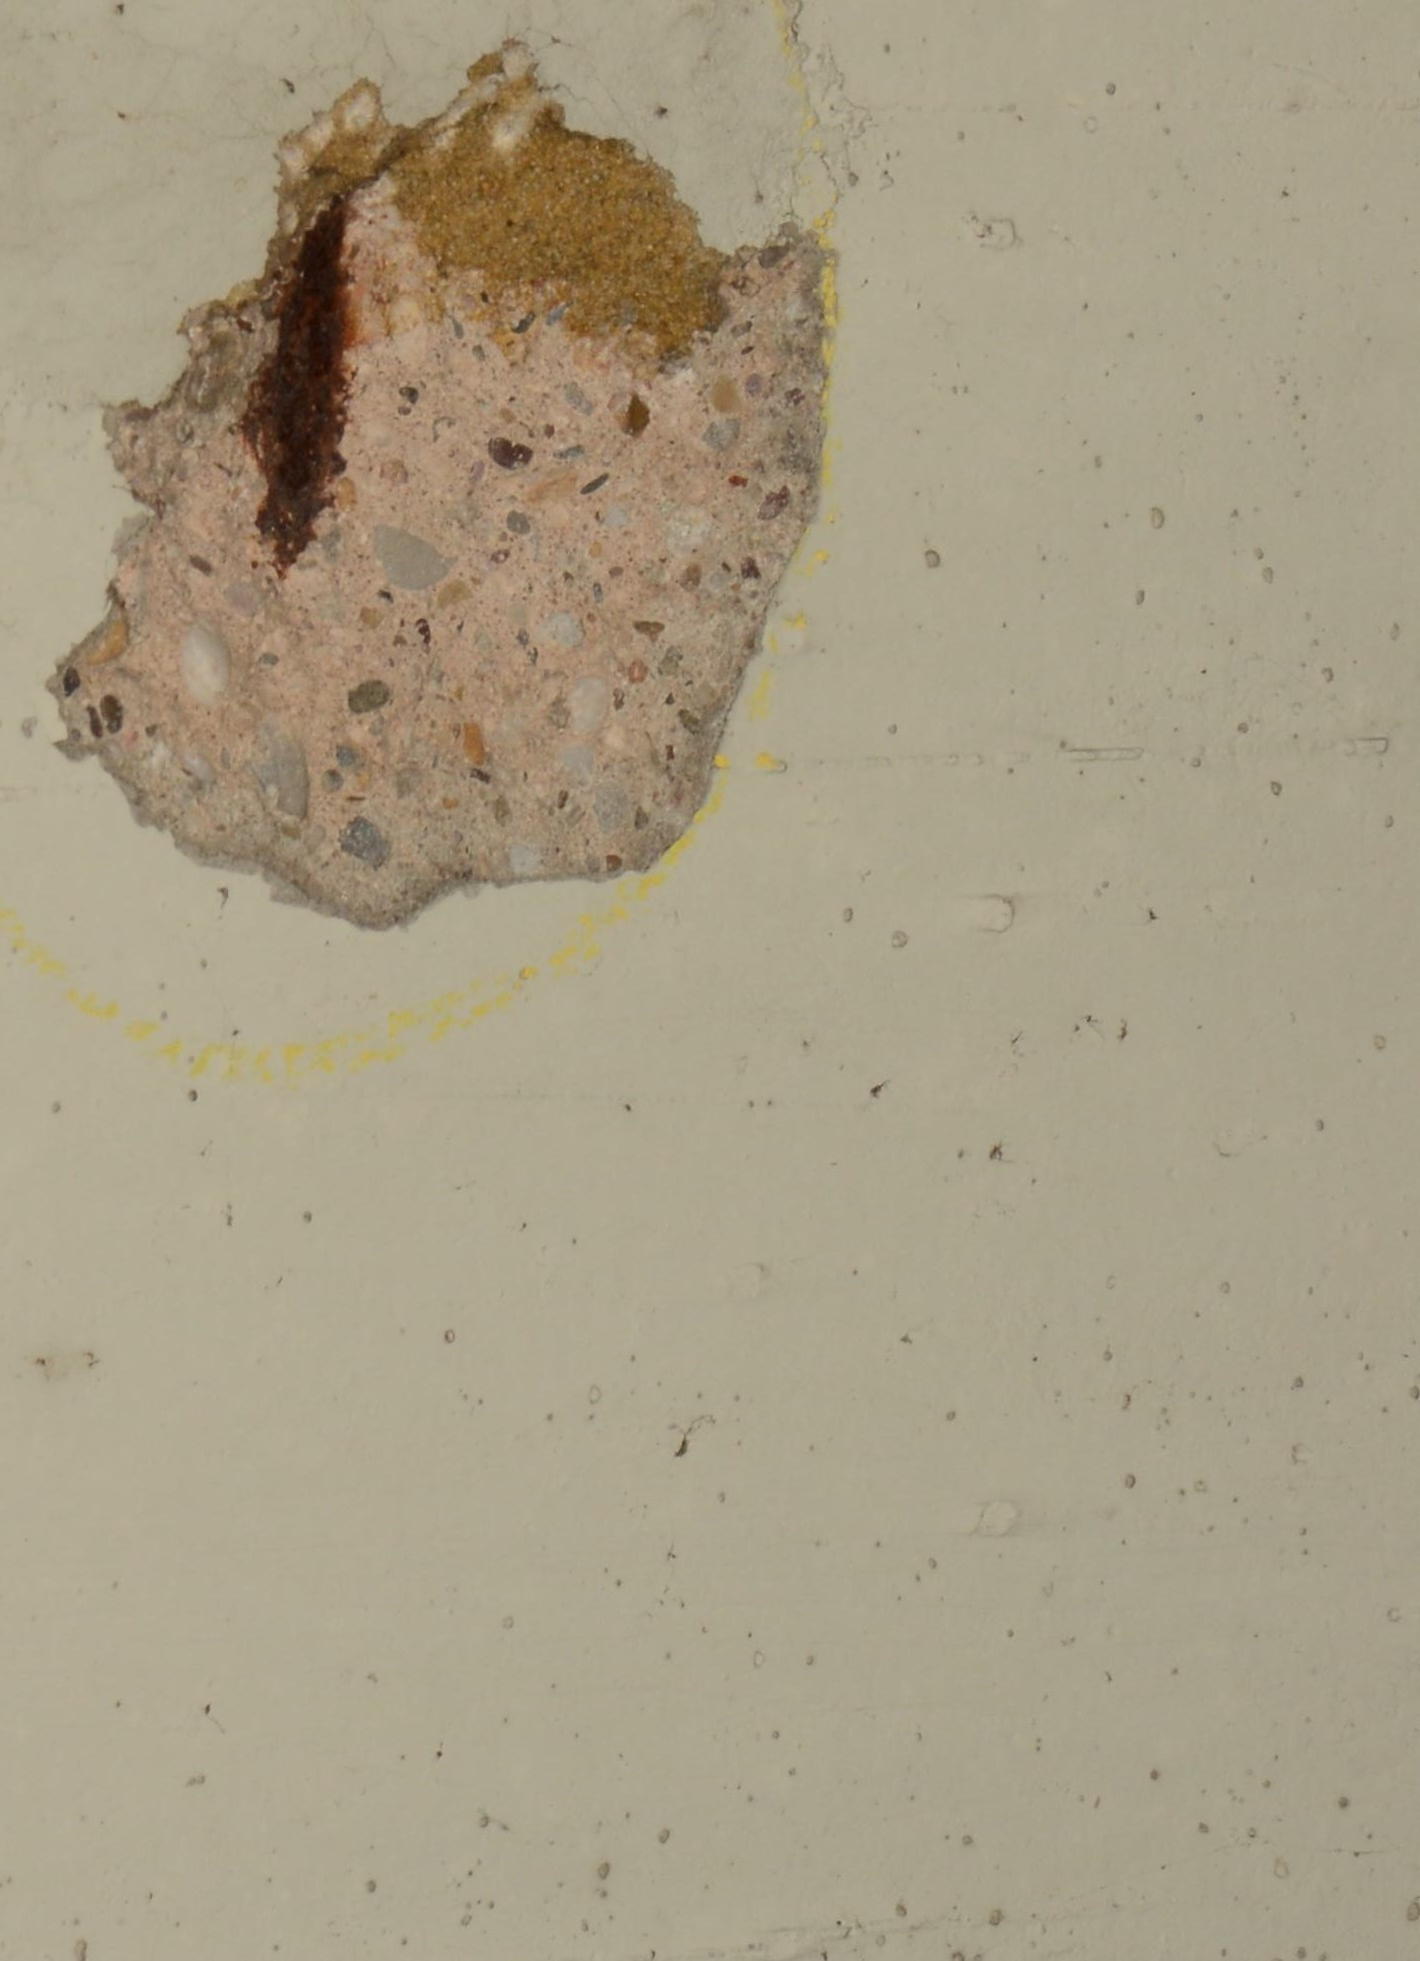Exposed reinforcement: (245, 193, 345, 580)
Spalling: (40, 37, 842, 933)
